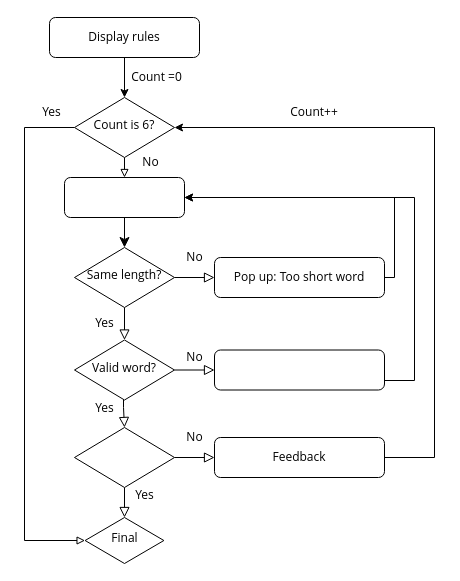
This 460x581 diagram has some shape labels left out. Here are the shapes that lost their labels. From the top down, the centre of each, then its label:
At pixel 124 197: "Try a word (Enter)".
At pixel 299 369: "Pop up: Invalid word".
At pixel 124 457: "Is the word?".
